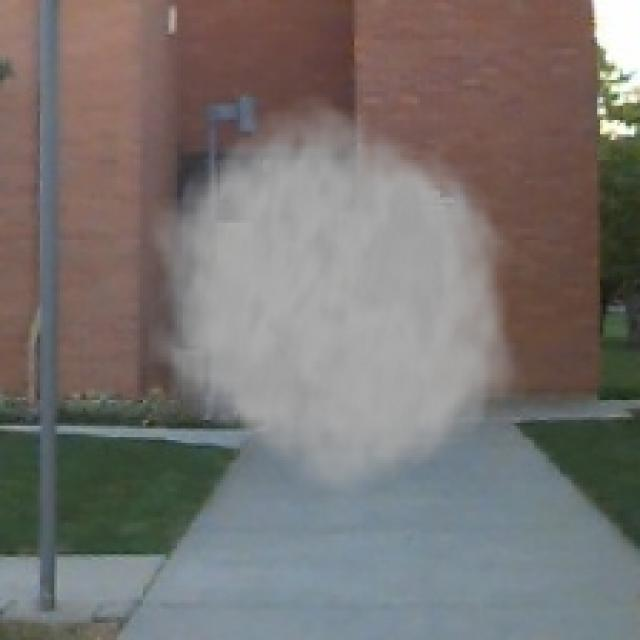Smoke: (148, 86, 532, 506)
